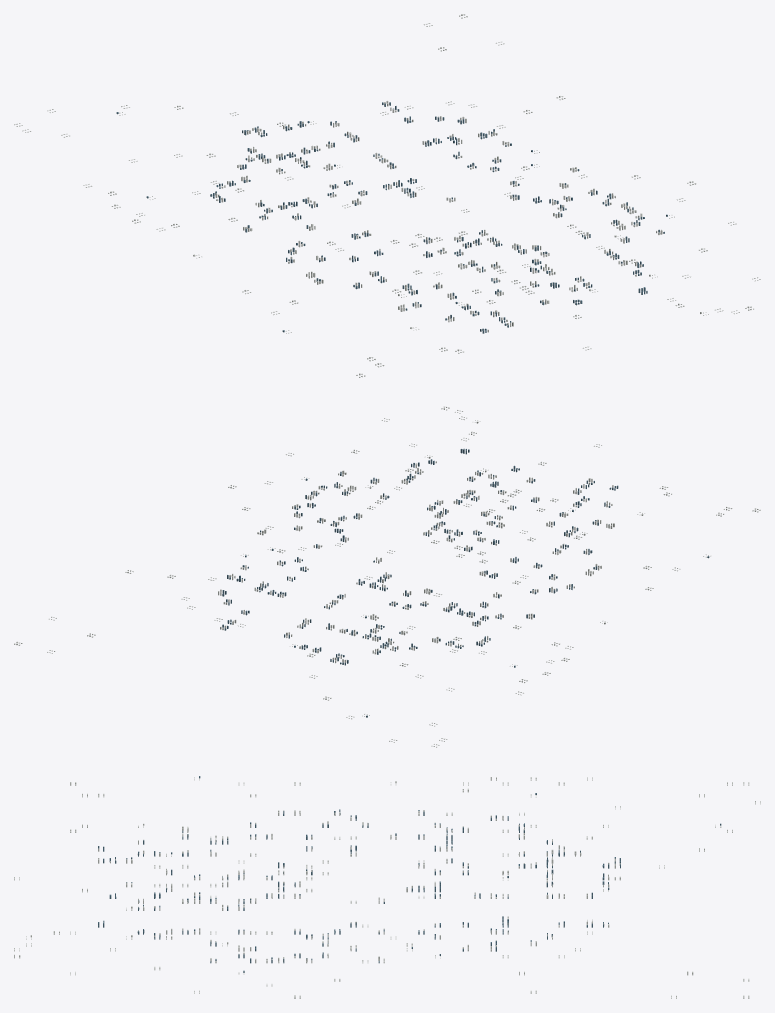
File: city-overview.glb
3 renders of one model, top to bottom at view 1: azimuth 30°, elevation 25°; view 2: azimuth 150°, elevation 25°; view 3: azimuth 270°, elevation 25°, orthographic. The views are drawn at different scales.
Bounding box in the file's own units: 18668 × 161 × 26634.
